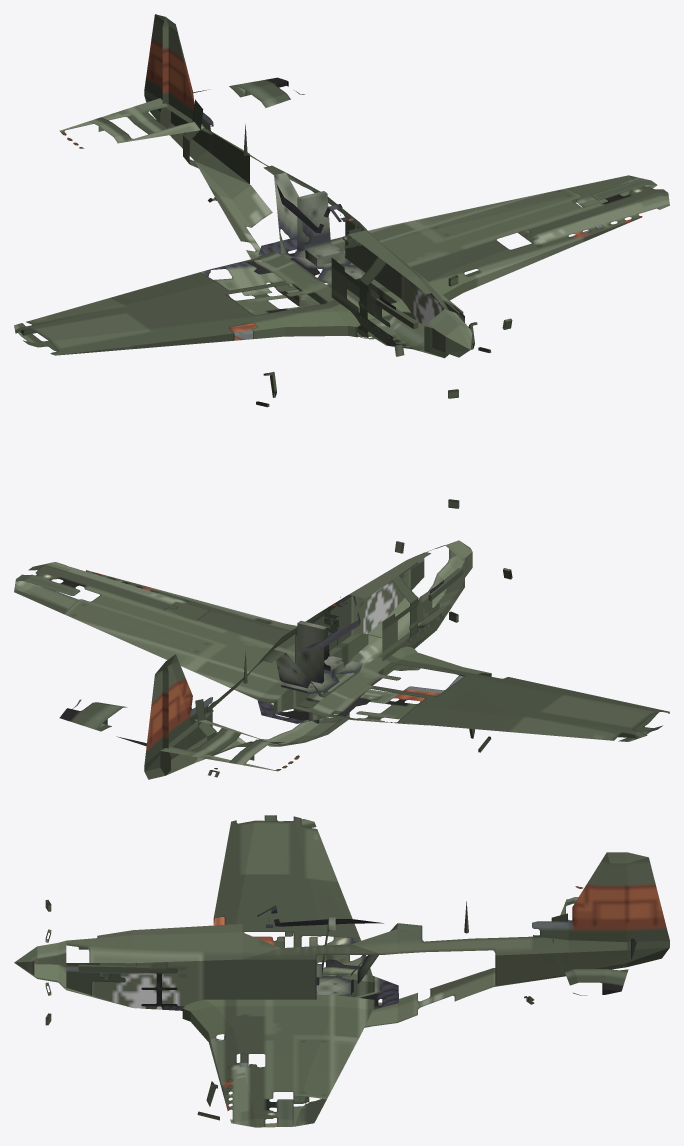
File: jason_plane.obj
3 renders of one model, top to bottom at view 1: azimuth 30°, elevation 25°; view 2: azimuth 150°, elevation 25°; view 3: azimuth 270°, elevation 25°, orthographic.
Visible parts, largest first — view 1: wing2, body, wing1, interior, wing0, surface0, surface1, wing4, surface4, surface2, wing3; view 2: wing1, wing2, body, interior, wing0, surface0, surface2, surface1, wing4, surface4, surface3, wing3; view 3: body, wing1, wing2, wing0, surface0, surface2, interior, surface1, wing3, frame_out, surface3.
Part boxes in pixels (x1=…): wing2: x1=14, y1=246, x2=370, y2=355; body: x1=160, y1=104, x2=472, y2=358; wing1: x1=330, y1=175, x2=669, y2=312; interior: x1=274, y1=172, x2=362, y2=284; wing0: x1=162, y1=17, x2=213, y2=132; surface0: x1=144, y1=14, x2=170, y2=124; surface1: x1=498, y1=175, x2=633, y2=208; wing4: x1=67, y1=118, x2=202, y2=148; surface4: x1=59, y1=98, x2=168, y2=139; surface2: x1=14, y1=295, x2=130, y2=335; wing3: x1=201, y1=80, x2=304, y2=128; wing1: x1=14, y1=562, x2=368, y2=715; wing2: x1=300, y1=646, x2=669, y2=740; body: x1=160, y1=540, x2=472, y2=775; interior: x1=276, y1=597, x2=362, y2=697; wing0: x1=162, y1=654, x2=212, y2=748; surface0: x1=144, y1=662, x2=170, y2=779; surface2: x1=498, y1=719, x2=638, y2=741; surface1: x1=14, y1=588, x2=130, y2=638; wing4: x1=196, y1=720, x2=299, y2=767; surface4: x1=160, y1=746, x2=285, y2=771; surface3: x1=59, y1=709, x2=146, y2=746; wing3: x1=66, y1=699, x2=197, y2=724; body: x1=14, y1=901, x2=627, y2=1027; wing1: x1=182, y1=995, x2=374, y2=1127; wing2: x1=213, y1=815, x2=398, y2=997; wing0: x1=532, y1=852, x2=627, y2=941; surface0: x1=627, y1=852, x2=669, y2=966; surface2: x1=295, y1=818, x2=340, y2=887; interior: x1=266, y1=917, x2=397, y2=994; surface1: x1=295, y1=1071, x2=339, y2=1125; wing3: x1=552, y1=938, x2=605, y2=995; frame_out: x1=257, y1=905, x2=383, y2=926; surface3: x1=605, y1=938, x2=636, y2=994.
Size of the model in its own units: 15.11 by 5.12 by 13.44.
